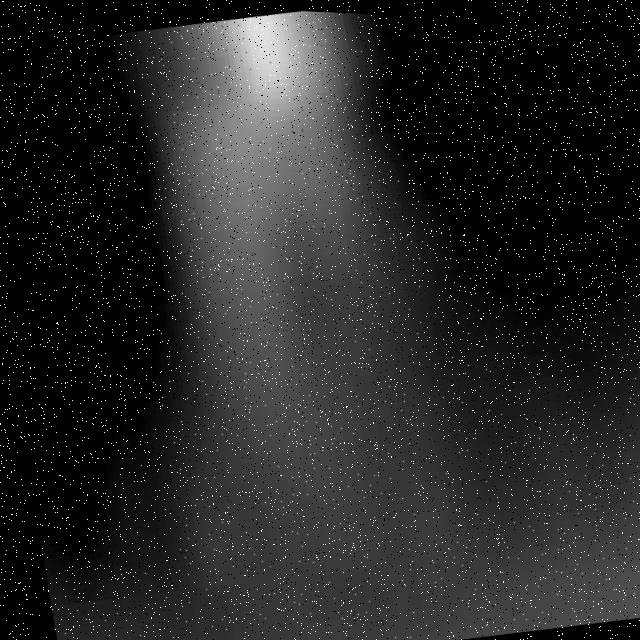person: (113, 4, 417, 510)
